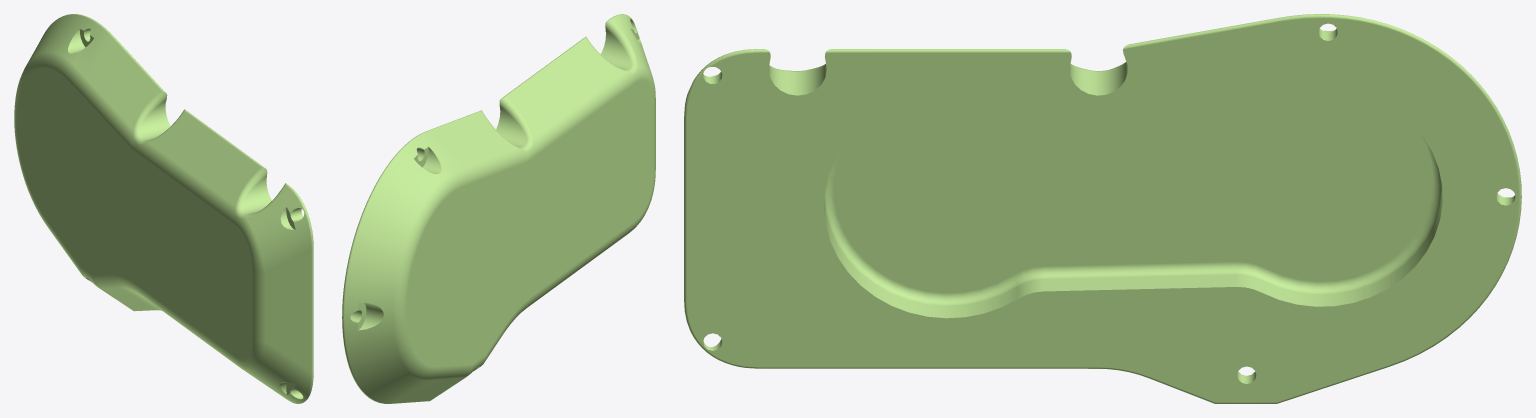
The model's file is Main_CaseOutside_1.dae.
The picture shows the model from 3 angles, left to right: view 1: azimuth 30°, elevation 25°; view 2: azimuth 150°, elevation 25°; view 3: azimuth 270°, elevation 25°; orthographic projection. The views are drawn at different scales.
Visible parts, largest first — view 1: Main_CaseOutside_1; view 2: Main_CaseOutside_1; view 3: Main_CaseOutside_1.
Part boxes in pixels (x1,y1,x2,y2): Main_CaseOutside_1: [14, 14, 313, 403]; Main_CaseOutside_1: [342, 14, 655, 403]; Main_CaseOutside_1: [684, 14, 1521, 403].
Size of the model in its own units: 0.007 by 0.0863 by 0.0443.
